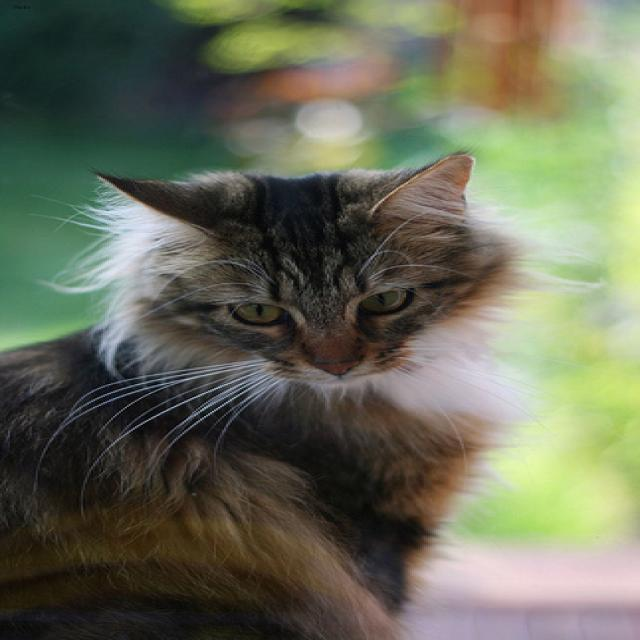Maine_Coon: (93, 151, 472, 385)
